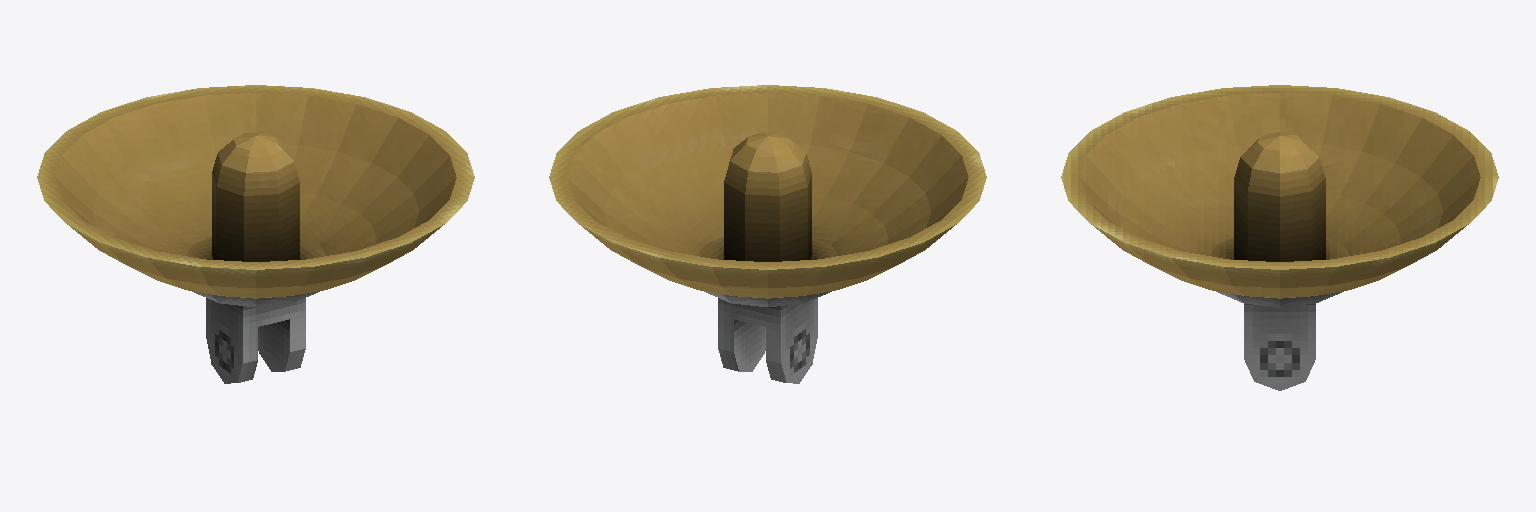
3 views of the same model, side by side, from view 1: azimuth 30°, elevation 25°; view 2: azimuth 150°, elevation 25°; view 3: azimuth 270°, elevation 25° (orthographic).
Visible parts, largest first — view 1: atria_antenna_1_2; view 2: atria_antenna_1_2; view 3: atria_antenna_1_2.
Boxes of the visible parts, x1,y1,x2,y2 form: atria_antenna_1_2: [37, 85, 474, 383]; atria_antenna_1_2: [549, 85, 986, 383]; atria_antenna_1_2: [1061, 85, 1498, 390].
Bounding box in the file's own units: 0.3 × 0.1813 × 0.3.
Materials: 1 (1 with a texture image).